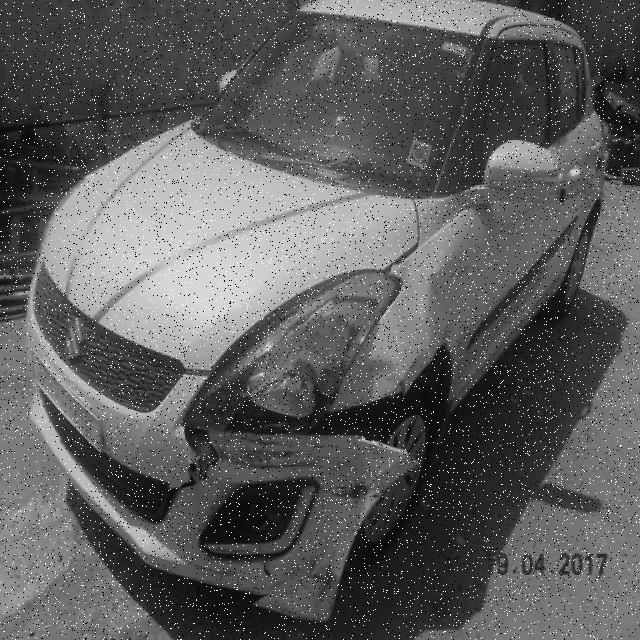car damage: (170, 393, 423, 630), (232, 340, 338, 428)
